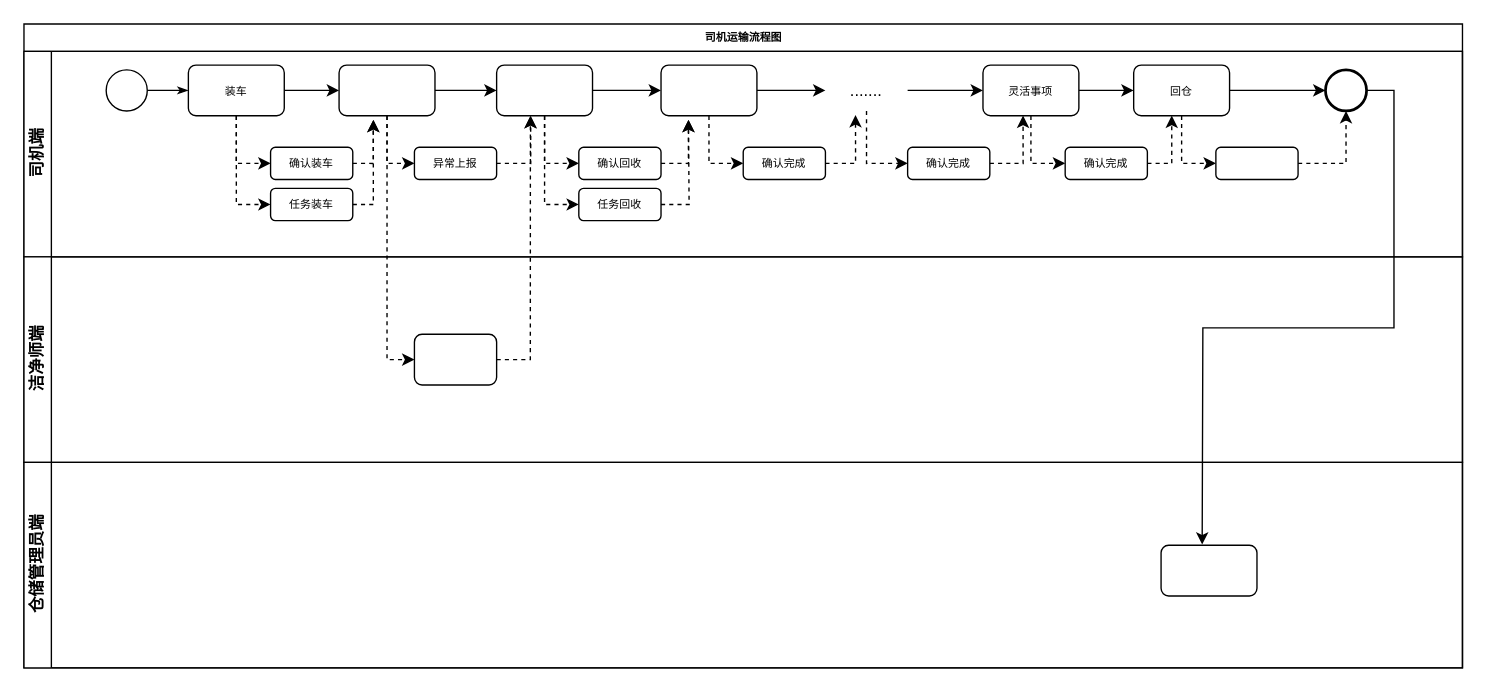
Some shapes in this 1486 by 692 pixel diagram are drawn without their labels. Here are the shapes that lost their labels. From the top down, the centre of each, then its label:
At point 126,89: "开始承运".
At point 386,90: "配送".
At point 544,90: "回收".
At point 708,90: "收衣/还衣".
At point 1345,90: "已完成".
At point 1256,162: "确认回仓".
At point 455,359: "确认签收".
At point 1208,570: "回库登记".
